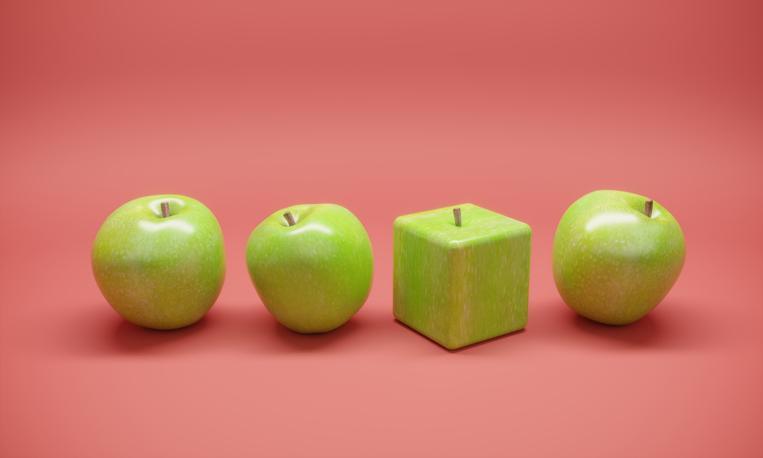apple: (90, 192, 227, 330), (551, 189, 688, 326), (245, 202, 373, 334)
